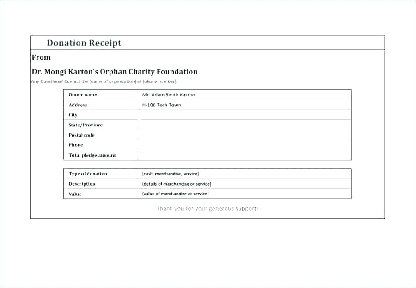textbox: (134, 107, 354, 122), (135, 137, 355, 152), (134, 128, 355, 142), (135, 147, 355, 161), (134, 118, 354, 131)
